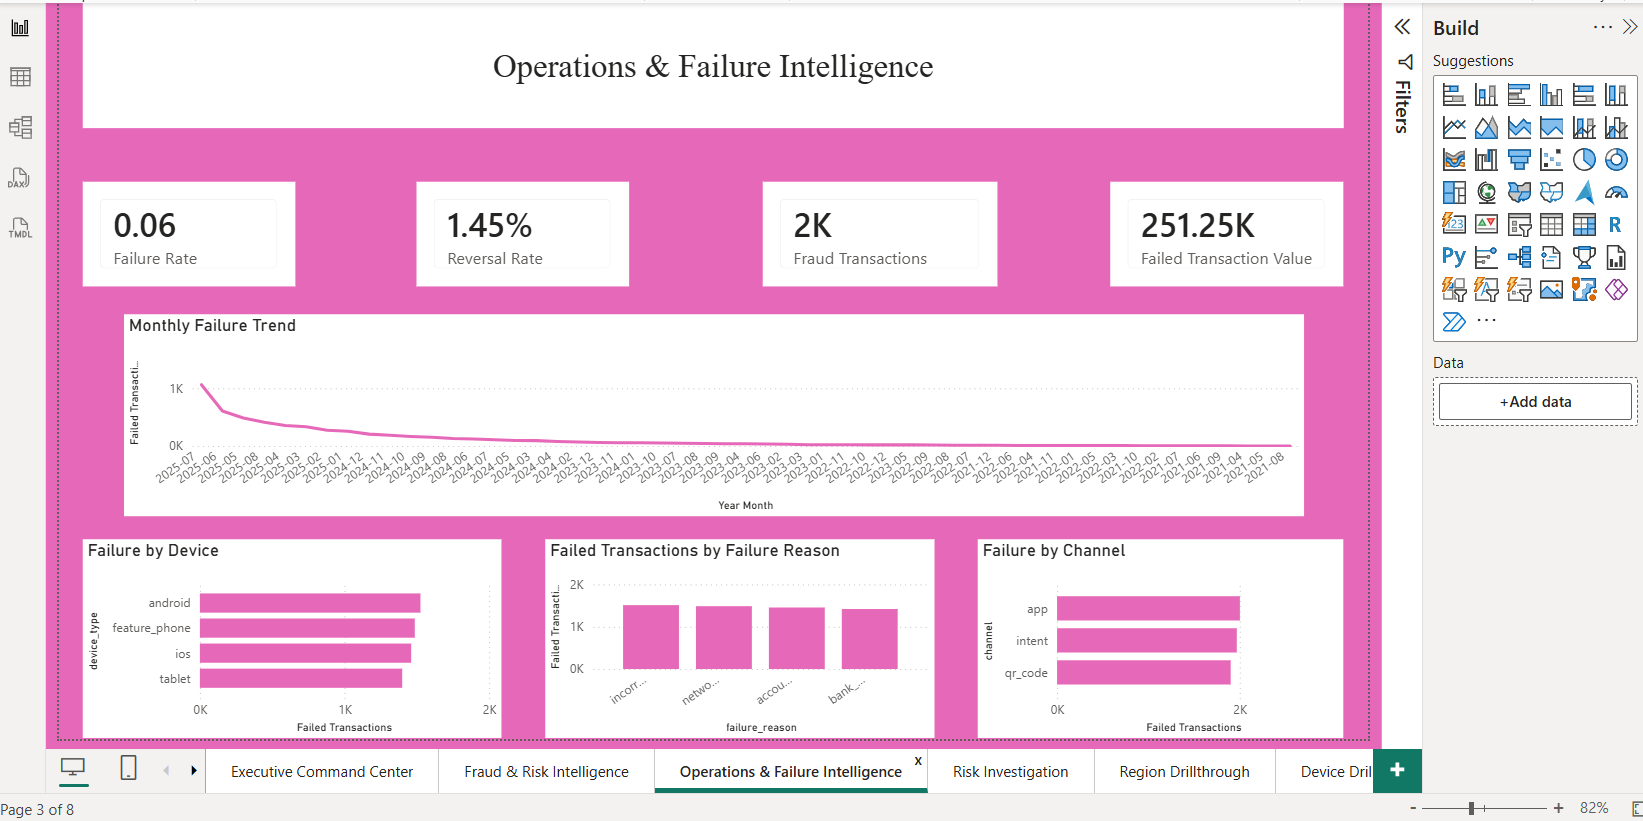

This screenshot's page, from the dashboard's own definition file:
{"tool":"powerbi","page":{"name":"Operations & Failure Intelligence","canvas":[1280,720],"ordinal":2},"visuals":[{"type":"textbox","box":[23.1,0,1233.6,122.6],"z":0},{"type":"cardVisual","fields":{"Data":["UPI_Measures.Failure Rate"]},"box":[23.1,174.6,207.8,102.4],"z":1000},{"type":"cardVisual","fields":{"Data":["UPI_Measures.Reversal Rate"]},"box":[349.1,174.6,207.8,102.4],"z":2000},{"type":"cardVisual","fields":{"Data":["UPI_Measures.Failed Transaction Value"]},"box":[1028.7,174.6,228,102.4],"z":3000},{"type":"cardVisual","fields":{"Data":["UPI_Measures.Fraud Transactions"]},"box":[688.2,174.6,229.4,102.4],"z":4000},{"type":"columnChart","title":"Failed Transactions by Failure Reason","fields":{"Y":["UPI_Measures.Failed Transactions"],"Category":["Transactions.failure_reason"]},"box":[476.1,525.2,380.9,194.8],"z":5000},{"type":"lineChart","title":"Monthly Failure Trend","fields":{"Category":["DateTable.Year Month"],"Y":["UPI_Measures.Failed Transactions"]},"box":[63.5,304.4,1154.2,197.7],"z":6000},{"type":"barChart","title":"Failure by Channel","fields":{"Category":["Transactions.channel"],"Y":["UPI_Measures.Failed Transactions"]},"box":[898.8,525.2,357.8,194.8],"z":7000},{"type":"barChart","title":"Failure by Device","fields":{"Category":["Devices.device_type"],"Y":["UPI_Measures.Failed Transactions"]},"box":[23.1,525.2,409.7,194.8],"z":8000}]}

Visuals, with their boxes on the page's 1280x720 design canvas (x1, y1, x2, y2). These are canvas units, not pixel positions in the 1643x821 screenshot, which may show the page scaled, cropped or inside an application window:
textbox: bbox=[23, 0, 1257, 123]
cardVisual - UPI_Measures.Failure Rate: bbox=[23, 175, 231, 277]
cardVisual - UPI_Measures.Reversal Rate: bbox=[349, 175, 557, 277]
cardVisual - UPI_Measures.Failed Transaction Value: bbox=[1029, 175, 1257, 277]
cardVisual - UPI_Measures.Fraud Transactions: bbox=[688, 175, 918, 277]
"Failed Transactions by Failure Reason" columnChart: bbox=[476, 525, 857, 720]
"Monthly Failure Trend" lineChart: bbox=[64, 304, 1218, 502]
"Failure by Channel" barChart: bbox=[899, 525, 1257, 720]
"Failure by Device" barChart: bbox=[23, 525, 433, 720]
